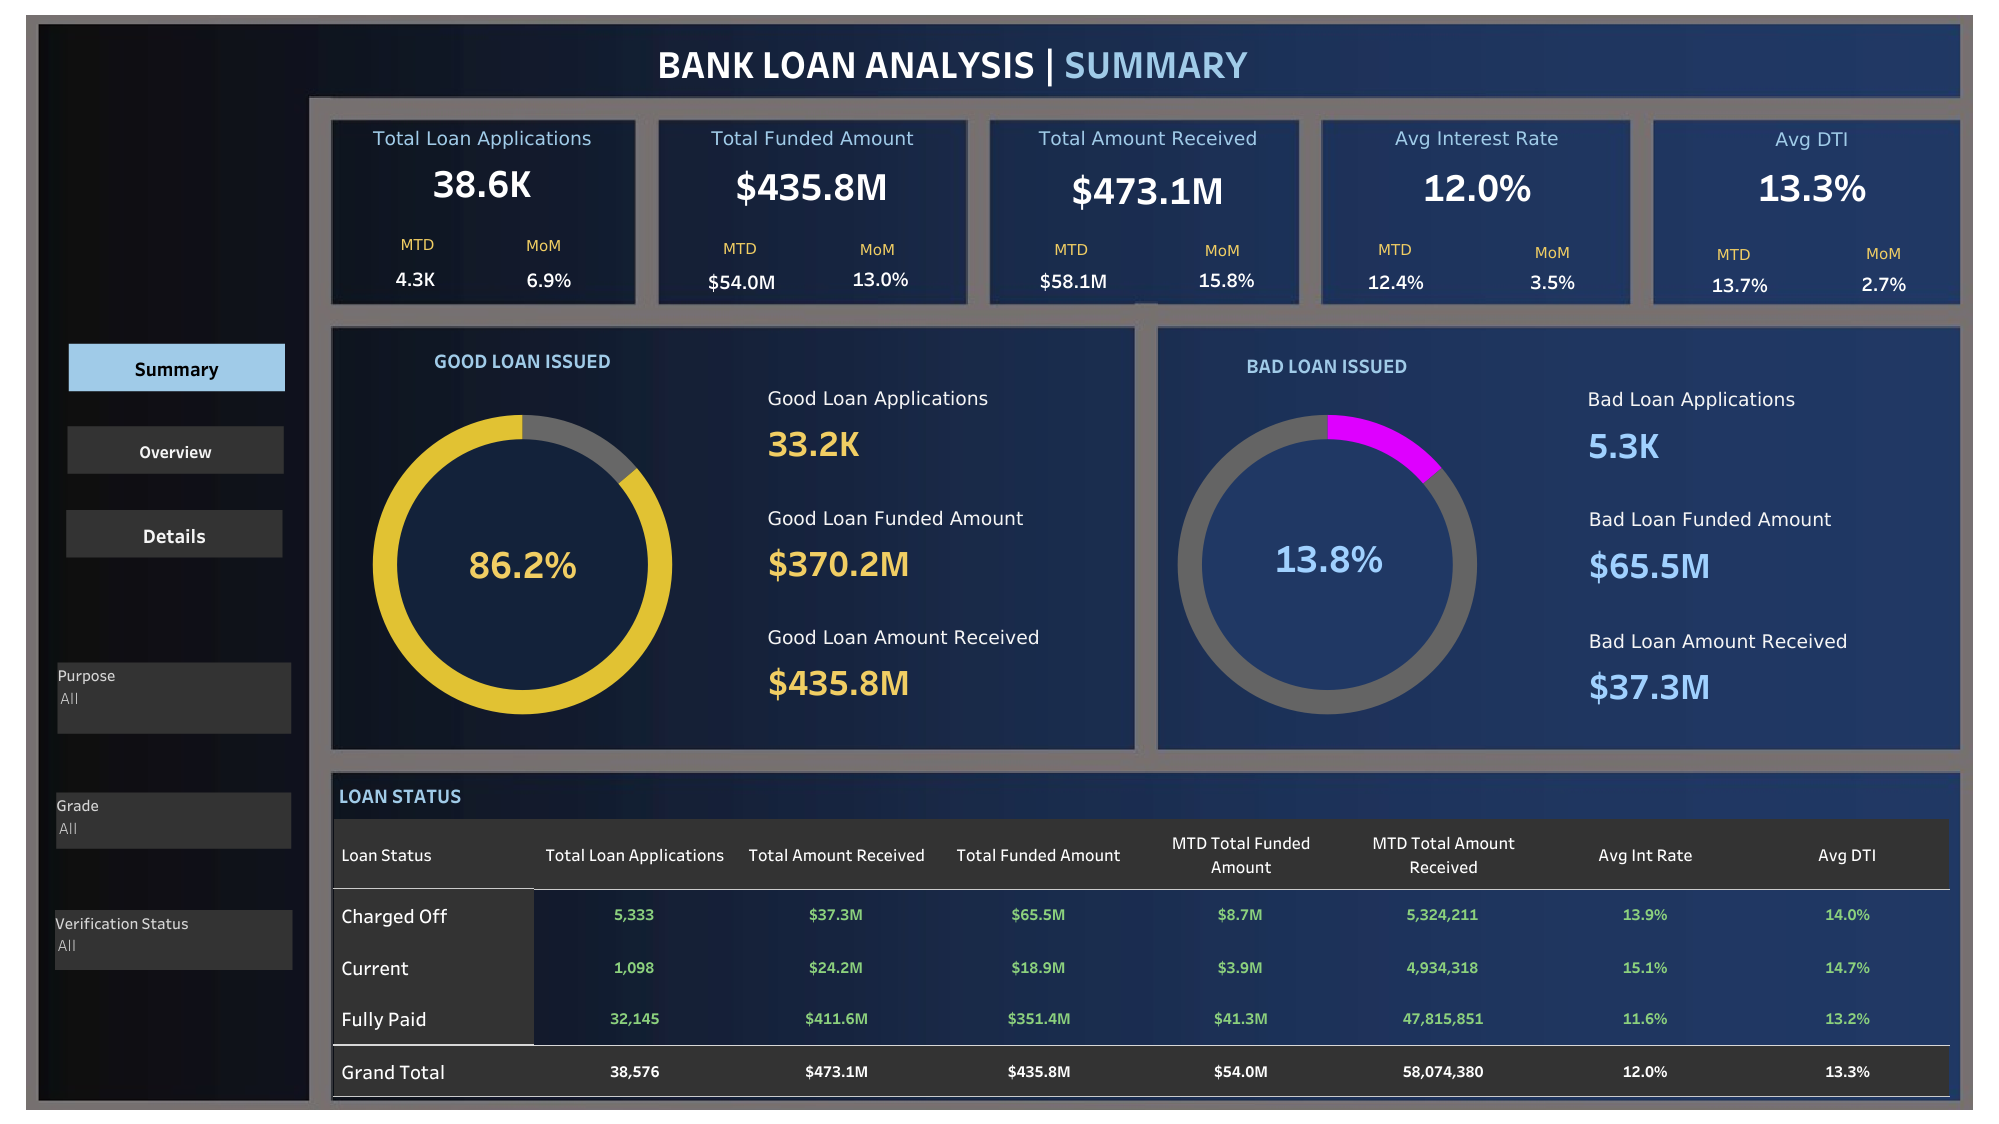

The page's visual inventory and layout, read from the dashboard file:
{"tool":"tableau","page":{"name":"SUMMARY","canvas":[1600,900],"ordinal":2},"visuals":[{"type":"image","param":"Image/Tableau Background 1.jpg","box":[8,8,1584,884]},{"type":"text","box":[523,15,620,70]},{"type":"worksheet","title":"Total Loan Applications","mark":"Automatic","box":[266,96,240,68]},{"type":"worksheet","title":"Total Funded Amount","mark":"Automatic","box":[526,96,248,71]},{"type":"worksheet","title":"Total Amount Received","mark":"Automatic","box":[795,96,247,77]},{"type":"worksheet","title":"Avg Interest Rate","mark":"Automatic","box":[1058,96,247,73]},{"type":"worksheet","title":"Avg DTI","mark":"Automatic","box":[1322,97,255,70]},{"type":"text","box":[284,180,100,30]},{"type":"text","box":[385,181,100,30]},{"type":"text","box":[542,183,100,30]},{"type":"text","box":[652,184,100,30]},{"type":"text","box":[807,184,100,30]},{"type":"text","box":[1066,184,100,30]},{"type":"text","box":[928,185,100,30]},{"type":"text","box":[1192,186,100,30]},{"type":"text","box":[1457,187,100,30]},{"type":"text","box":[1337,188,100,30]},{"type":"worksheet","title":"MTD Avg DTI","mark":"Automatic","box":[1330,198,125,58]},{"type":"worksheet","title":"MTD Total Funded Amount ","mark":"Automatic","box":[554,199,79,51]},{"type":"worksheet","title":"MoM Total Funded Amount","mark":"Automatic","box":[652,200,106,46]},{"type":"worksheet","title":"MTD Avg INT Rate","mark":"Automatic","box":[1067,202,100,46]},{"type":"worksheet","title":"MTD Total Loan Applications","mark":"Automatic","box":[266,205,134,36]},{"type":"worksheet","title":"MTD Total Amount Received","mark":"Automatic","box":[817,206,86,36]},{"type":"worksheet","title":"MoM Avg Int Rate","mark":"Automatic","box":[1191,207,103,36]},{"type":"worksheet","title":"MoM Avg DTI","mark":"Automatic","box":[1463,208,88,38]},{"type":"worksheet","title":"MoM Total Amount Received","mark":"Automatic","box":[937,209,89,30]},{"type":"worksheet","title":"MoM Loan Applications","mark":"Automatic","box":[399,214,81,18]},{"type":"worksheet","title":"Good Loan Issued","mark":"Pie","rows":["Calculation_872572468266192897","Calculation_872572468266192897"],"box":[268,271,300,325]},{"type":"dashboard-object","box":[55,275,173,38]},{"type":"worksheet","title":"Bad Loan Issued","mark":"Pie","rows":["Calculation_872572468266192897","Calculation_872572468266192897"],"box":[910,275,303,317]},{"type":"worksheet","title":"Good Loan Applications","mark":"Automatic","box":[606,300,300,75]},{"type":"worksheet","title":"Bad Loan Applications","mark":"Automatic","box":[1262,301,300,75]},{"type":"dashboard-object","box":[54,341,173,38]},{"type":"worksheet","title":"Good Loan Funded Amount","mark":"Automatic","box":[606,396,300,75]},{"type":"worksheet","title":"Bad Loan Funded Amount","mark":"Automatic","box":[1263,397,300,75]},{"type":"worksheet","title":"Bad Loan %","mark":"Automatic","box":[997,402,133,87]},{"type":"dashboard-object","box":[53,408,173,38]},{"type":"worksheet","title":"Good Loan Application %","mark":"Automatic","box":[357,414,123,73]},{"type":"worksheet","title":"Good Loan Amount Received","mark":"Automatic","box":[606,491,300,75]},{"type":"worksheet","title":"Bad Loan Amount Received","mark":"Automatic","box":[1263,494,300,75]},{"type":"filter","title":"Good Loan Issued","param":"[federated.15s4aif1ggkyga19rxjmh1us535x].[none:purpose:nk]","box":[46,530,187,57]},{"type":"worksheet","title":"LOAN STATUS","mark":"Automatic","rows":["loan_status"],"box":[267,619,1293,259]},{"type":"filter","title":"Good Loan Issued","param":"[federated.15s4aif1ggkyga19rxjmh1us535x].[none:grade:nk]","box":[45,634,188,45]},{"type":"filter","title":"Good Loan Issued","param":"[federated.15s4aif1ggkyga19rxjmh1us535x].[none:verification_status:nk]","box":[44,728,190,48]}]}

Visuals, with their boxes in screenshot pixels (x1, y1, x2, y2), scaled from the page's 1600x900 canvas onto the 1999x1124 screenshot:
image: box=[10, 10, 1989, 1114]
text: box=[653, 19, 1428, 106]
"Total Loan Applications" worksheet: box=[332, 120, 632, 205]
"Total Funded Amount" worksheet: box=[657, 120, 967, 209]
"Total Amount Received" worksheet: box=[993, 120, 1302, 216]
"Avg Interest Rate" worksheet: box=[1322, 120, 1630, 211]
"Avg DTI" worksheet: box=[1652, 121, 1970, 209]
text: box=[355, 225, 480, 262]
text: box=[481, 226, 606, 264]
text: box=[677, 229, 802, 266]
text: box=[815, 230, 940, 267]
text: box=[1008, 230, 1133, 267]
text: box=[1332, 230, 1457, 267]
text: box=[1159, 231, 1284, 269]
text: box=[1489, 232, 1614, 270]
text: box=[1820, 234, 1945, 271]
text: box=[1670, 235, 1795, 272]
"MTD Avg DTI" worksheet: box=[1662, 247, 1818, 320]
"MTD Total Funded Amount " worksheet: box=[692, 249, 791, 312]
"MoM Total Funded Amount" worksheet: box=[815, 250, 947, 307]
"MTD Avg INT Rate" worksheet: box=[1333, 252, 1458, 310]
"MTD Total Loan Applications" worksheet: box=[332, 256, 500, 301]
"MTD Total Amount Received" worksheet: box=[1021, 257, 1128, 302]
"MoM Avg Int Rate" worksheet: box=[1488, 259, 1617, 303]
"MoM Avg DTI" worksheet: box=[1828, 260, 1938, 307]
"MoM Total Amount Received" worksheet: box=[1171, 261, 1282, 298]
"MoM Loan Applications" worksheet: box=[499, 267, 600, 290]
"Good Loan Issued" worksheet (Pie marks): box=[335, 338, 710, 744]
dashboard-object: box=[69, 343, 285, 391]
"Bad Loan Issued" worksheet (Pie marks): box=[1137, 343, 1515, 739]
"Good Loan Applications" worksheet: box=[757, 375, 1132, 468]
"Bad Loan Applications" worksheet: box=[1577, 376, 1952, 470]
dashboard-object: box=[67, 426, 284, 473]
"Good Loan Funded Amount" worksheet: box=[757, 495, 1132, 588]
"Bad Loan Funded Amount" worksheet: box=[1578, 496, 1953, 589]
"Bad Loan %" worksheet: box=[1246, 502, 1412, 611]
dashboard-object: box=[66, 510, 282, 557]
"Good Loan Application %" worksheet: box=[446, 517, 600, 608]
"Good Loan Amount Received" worksheet: box=[757, 613, 1132, 707]
"Bad Loan Amount Received" worksheet: box=[1578, 617, 1953, 711]
"Good Loan Issued" filter: box=[57, 662, 291, 733]
"LOAN STATUS" worksheet: box=[334, 773, 1949, 1097]
"Good Loan Issued" filter: box=[56, 792, 291, 848]
"Good Loan Issued" filter: box=[55, 909, 292, 969]
